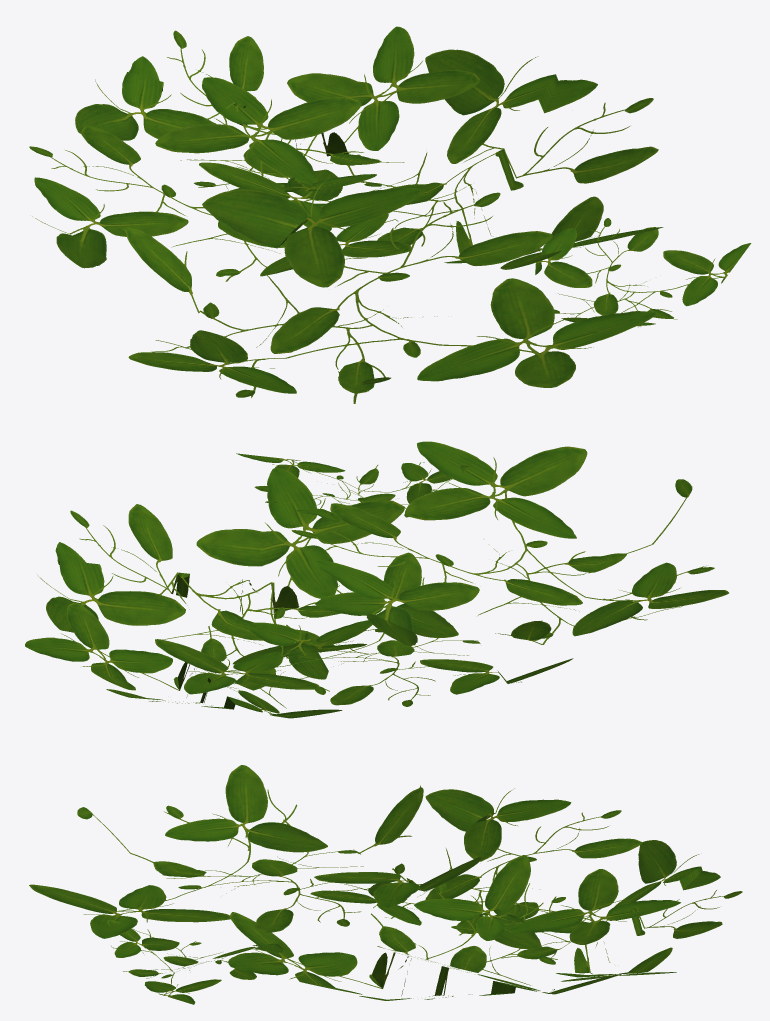
File: leafplant5_lod2.fbx
3 renders of one model, top to bottom at view 1: azimuth 30°, elevation 25°; view 2: azimuth 150°, elevation 25°; view 3: azimuth 270°, elevation 25°, orthographic. The views are drawn at different scales.
Parts seen in each view (by area): view 1: Mesh Object; view 2: Mesh Object; view 3: Mesh Object.
Boxes of the visible parts, x1=… form: Mesh Object: x1=29, y1=26, x2=751, y2=403; Mesh Object: x1=25, y1=441, x2=728, y2=718; Mesh Object: x1=29, y1=765, x2=742, y2=1004.
Size of the model in its own units: 1.74 by 0.2627 by 2.04.
